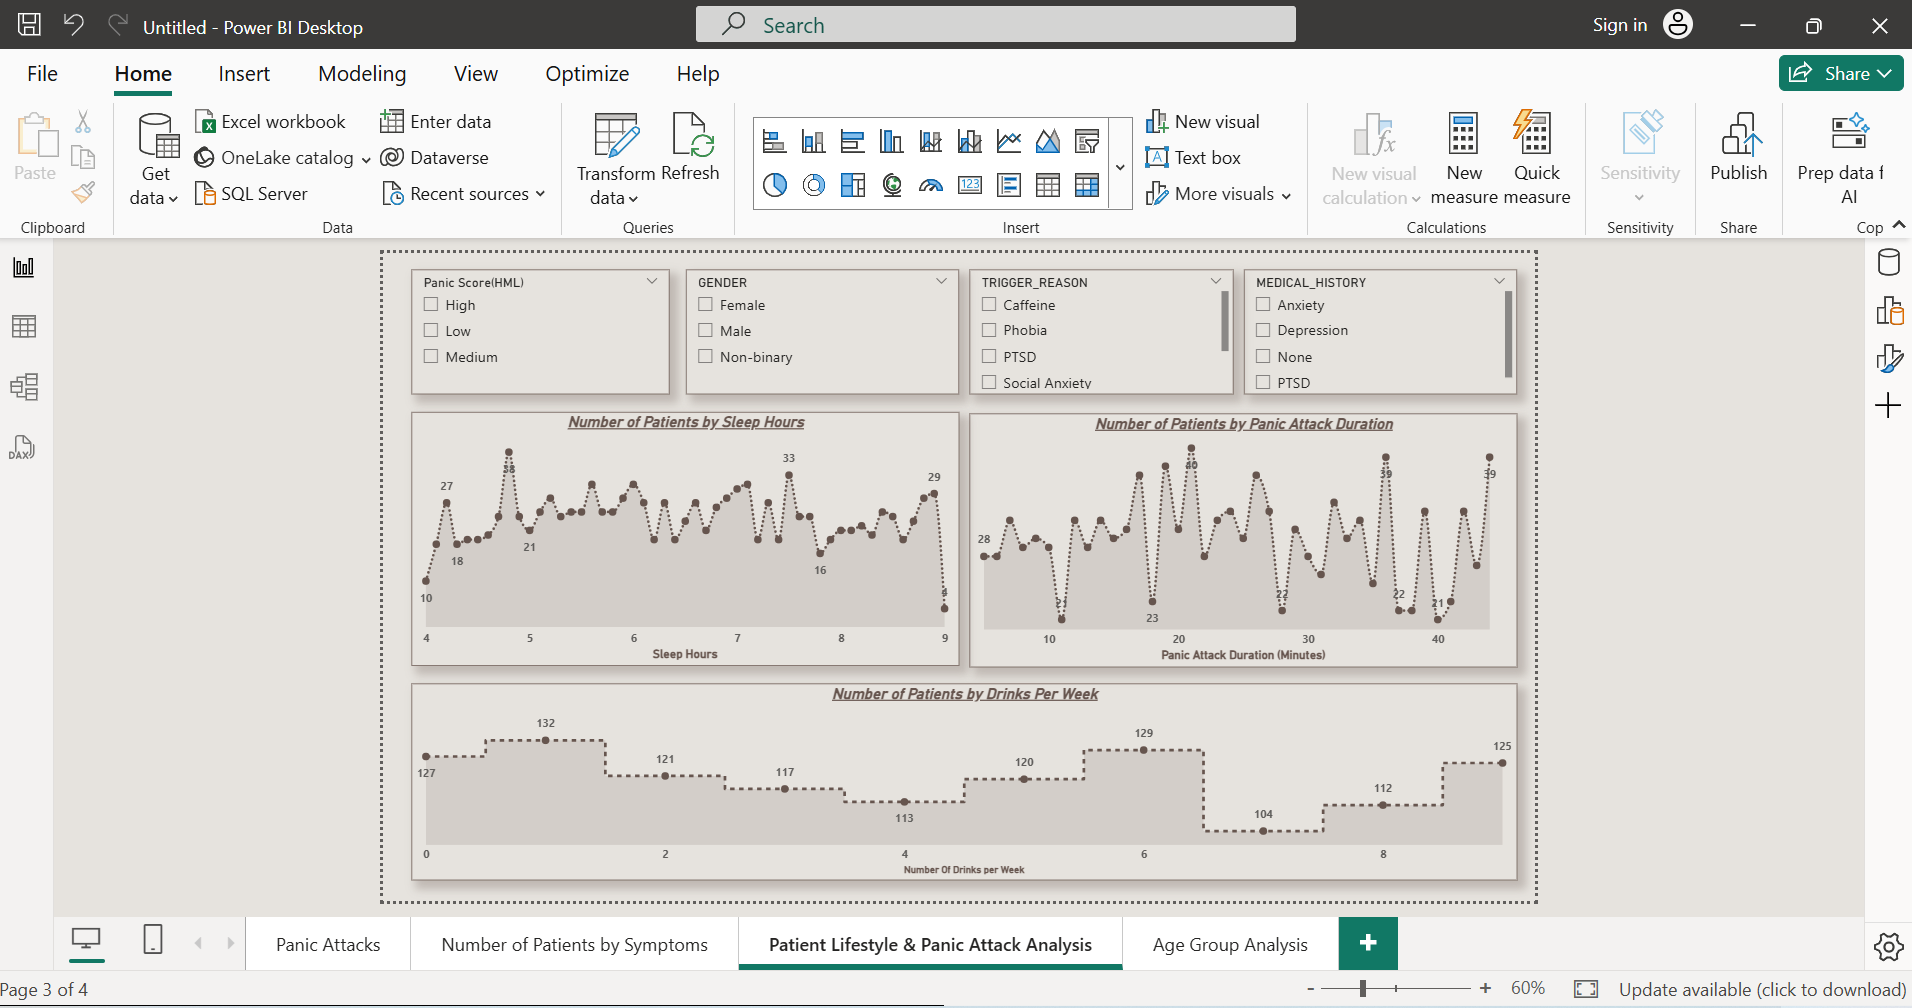

This screenshot's page, from the dashboard's own definition file:
{"tool":"powerbi","page":{"name":"Patient Lifestyle & Panic Attack Analysis","canvas":[1280,720],"ordinal":2},"visuals":[{"type":"slicer","fields":{"Values":["PANIC_ATTACK_DATA.Panic Score(HML)"]},"box":[31.7,18.3,286.7,138.3],"z":0},{"type":"slicer","fields":{"Values":["PANIC_ATTACK_DATA.GENDER"]},"box":[336.7,18.3,303.3,138.3],"z":1000},{"type":"slicer","fields":{"Values":["PANIC_ATTACK_DATA.TRIGGER_REASON"]},"box":[651.7,18.3,293.3,138.3],"z":2000},{"type":"slicer","fields":{"Values":["PANIC_ATTACK_DATA.MEDICAL_HISTORY"]},"box":[956.7,18.3,303.3,138.3],"z":3000},{"type":"areaChart","title":"Number of Patients by Drinks Per Week","fields":{"Category":["PANIC_ATTACK_DATA.ALCOHOL_CONSUMPTION"],"Y":["CountNonNull(PANIC_ATTACK_DATA.ID)"]},"box":[31.7,478.3,1228.3,218.3],"z":4000},{"type":"areaChart","title":"Number of Patients by Sleep Hours","fields":{"Category":["PANIC_ATTACK_DATA.SLEEP_HOURS"],"Y":["CountNonNull(PANIC_ATTACK_DATA.ID)"]},"box":[31.7,176.7,608.3,281.7],"z":5000},{"type":"areaChart","title":"Number of Patients by Panic Attack Duration","fields":{"Category":["PANIC_ATTACK_DATA.DURATION_MINUTES"],"Y":["CountNonNull(PANIC_ATTACK_DATA.ID)"]},"box":[651.7,178.3,608.3,281.7],"z":6000}]}

Visuals, with their boxes on the page's 1280x720 design canvas (x1, y1, x2, y2). These are canvas units, not pixel positions in the 1912x1008 screenshot, which may show the page scaled, cropped or inside an application window:
slicer - PANIC_ATTACK_DATA.Panic Score(HML): left=32, top=18, right=318, bottom=157
slicer - PANIC_ATTACK_DATA.GENDER: left=337, top=18, right=640, bottom=157
slicer - PANIC_ATTACK_DATA.TRIGGER_REASON: left=652, top=18, right=945, bottom=157
slicer - PANIC_ATTACK_DATA.MEDICAL_HISTORY: left=957, top=18, right=1260, bottom=157
"Number of Patients by Drinks Per Week" areaChart: left=32, top=478, right=1260, bottom=697
"Number of Patients by Sleep Hours" areaChart: left=32, top=177, right=640, bottom=458
"Number of Patients by Panic Attack Duration" areaChart: left=652, top=178, right=1260, bottom=460
